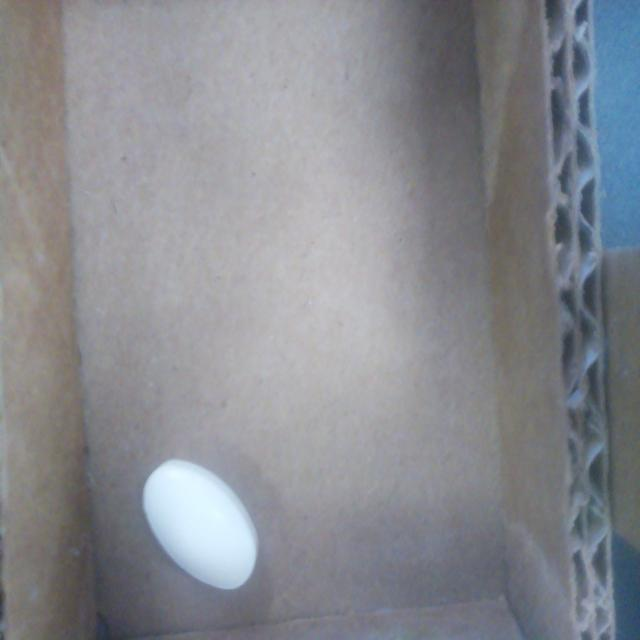pill: (143, 460, 260, 592)
